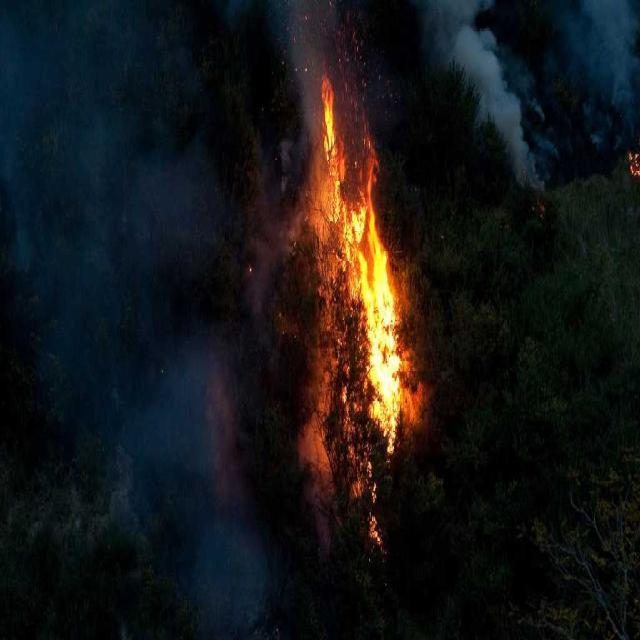Fire: (370, 279, 398, 397)
Smoke: (68, 151, 208, 389)
